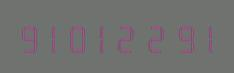nine: (17, 20, 41, 53), (167, 20, 191, 53)
one: (42, 20, 66, 53), (92, 20, 116, 53), (192, 20, 216, 53)
two: (117, 20, 141, 53), (142, 20, 166, 53)
zero: (67, 20, 91, 53)
